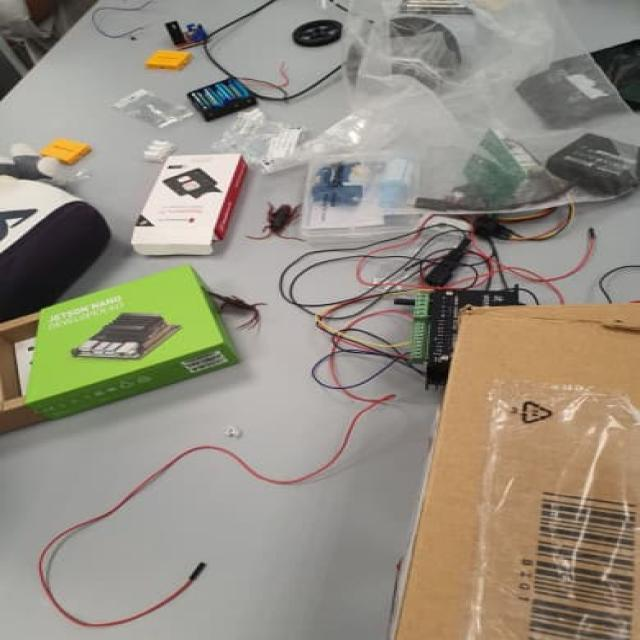Cockroach: (192, 280, 284, 340), (246, 192, 305, 249)
